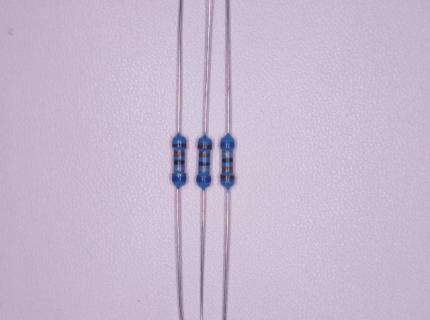Black band: (222, 158, 233, 163), (174, 160, 185, 164), (199, 162, 210, 166)
Blue band: (172, 176, 186, 182), (220, 142, 234, 147), (197, 177, 210, 182)
Brown band: (220, 174, 234, 180), (172, 143, 186, 147), (198, 145, 212, 149)
Grey band: (198, 168, 209, 172), (222, 152, 233, 155), (174, 167, 185, 170)
Orange band: (174, 151, 185, 157), (199, 152, 210, 157), (222, 167, 233, 172)
